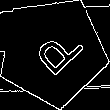P_SW: (22, 20, 84, 83)
